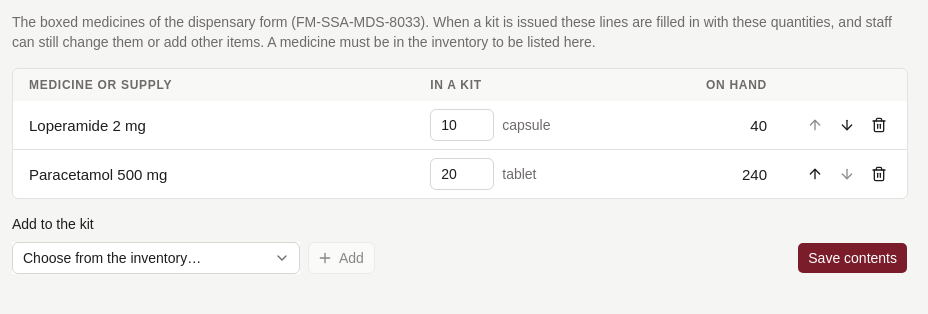
Test case: a quantity must be a whole number of 1 or more
Clear the field named "How many Loperamide 2 mg" at (462, 125), box [430, 109, 494, 141]
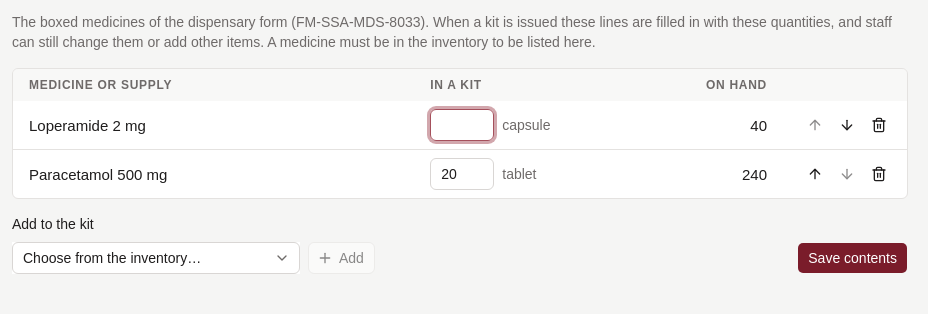
Click the button "Save contents" at (853, 258), box [797, 242, 908, 274]
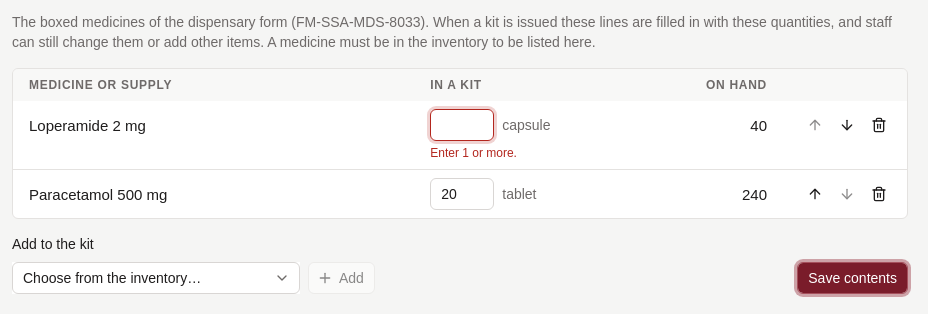
Check: the text "Enter 1 or more." is shown, box [430, 146, 517, 160]
